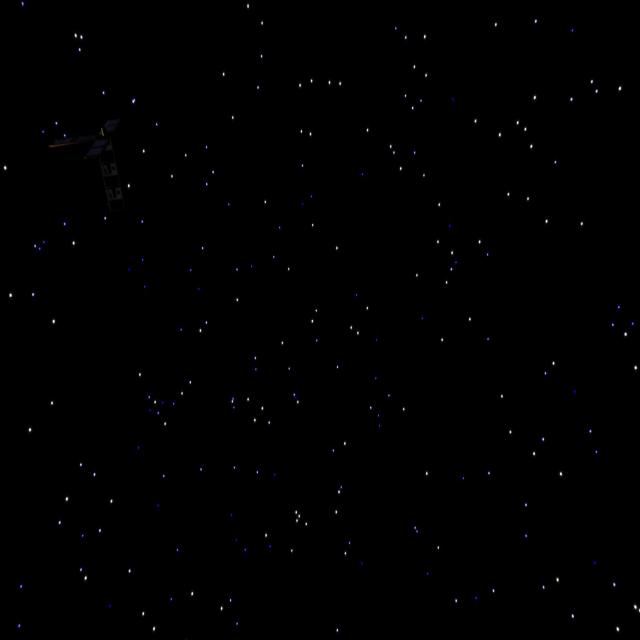medium_debris: (41, 101, 156, 215)
